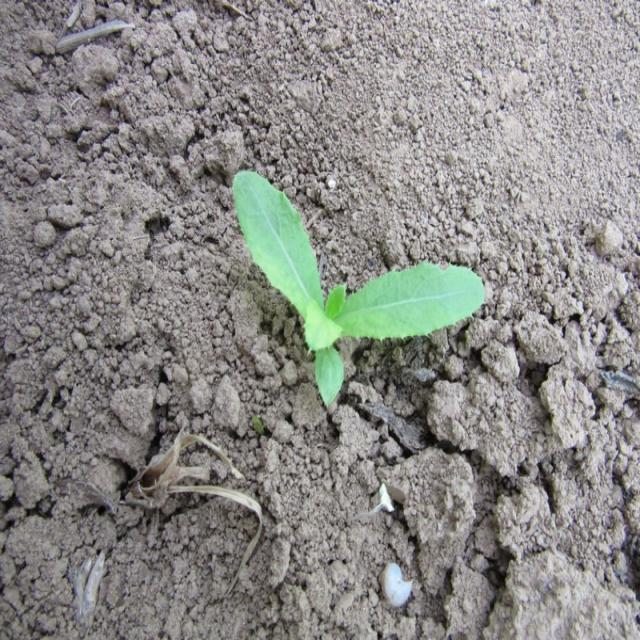field_thistle: (200, 132, 482, 415)
